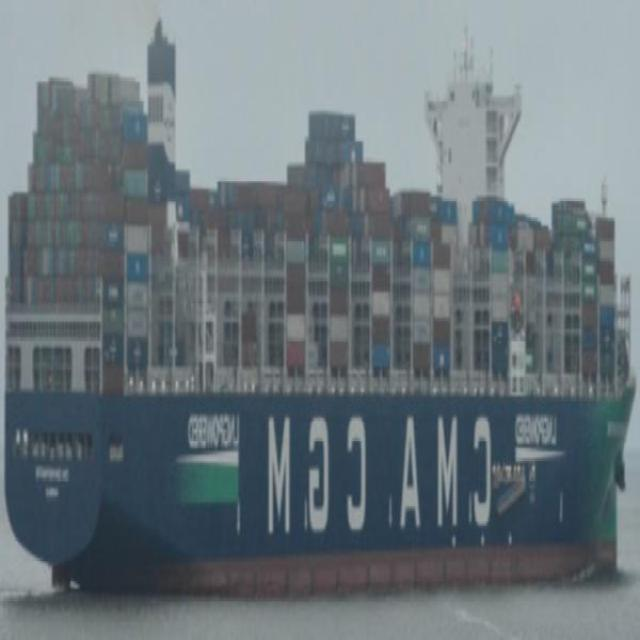Container Ship: (4, 9, 635, 595)
